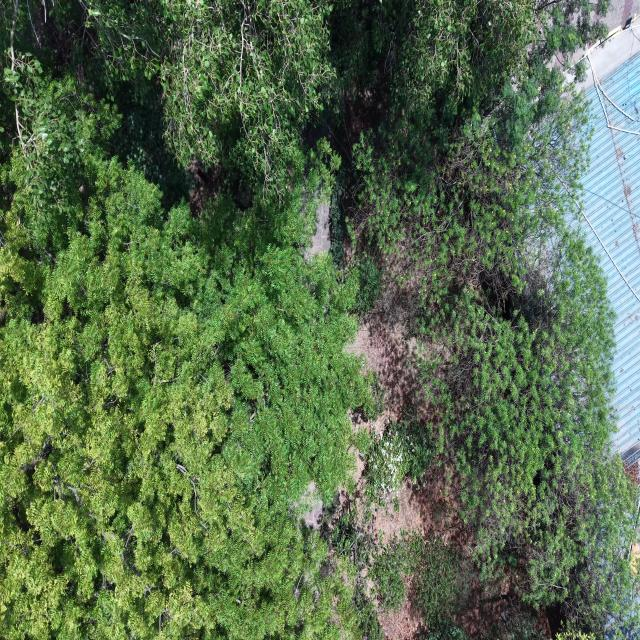DRY_AREA: (371, 464, 520, 639), (305, 450, 474, 567), (340, 453, 474, 567), (332, 450, 473, 558), (348, 282, 427, 419), (341, 457, 450, 549), (372, 464, 472, 554), (349, 314, 423, 419), (577, 0, 639, 90), (379, 599, 423, 639), (305, 202, 330, 258)
ROOFTOP_BUILDING: (575, 55, 639, 463)
VEGETATION_TREE: (0, 0, 638, 639), (0, 62, 369, 638), (347, 3, 637, 632), (3, 0, 334, 197), (373, 534, 467, 634), (355, 256, 382, 315)
